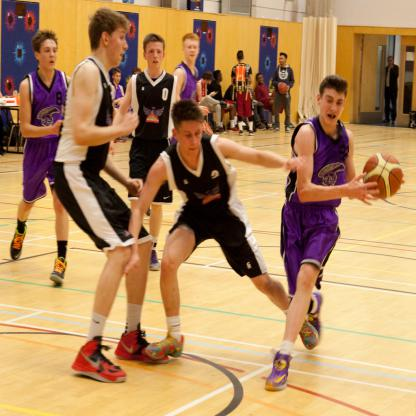Ball: (362, 153, 403, 199), (279, 82, 289, 95)
